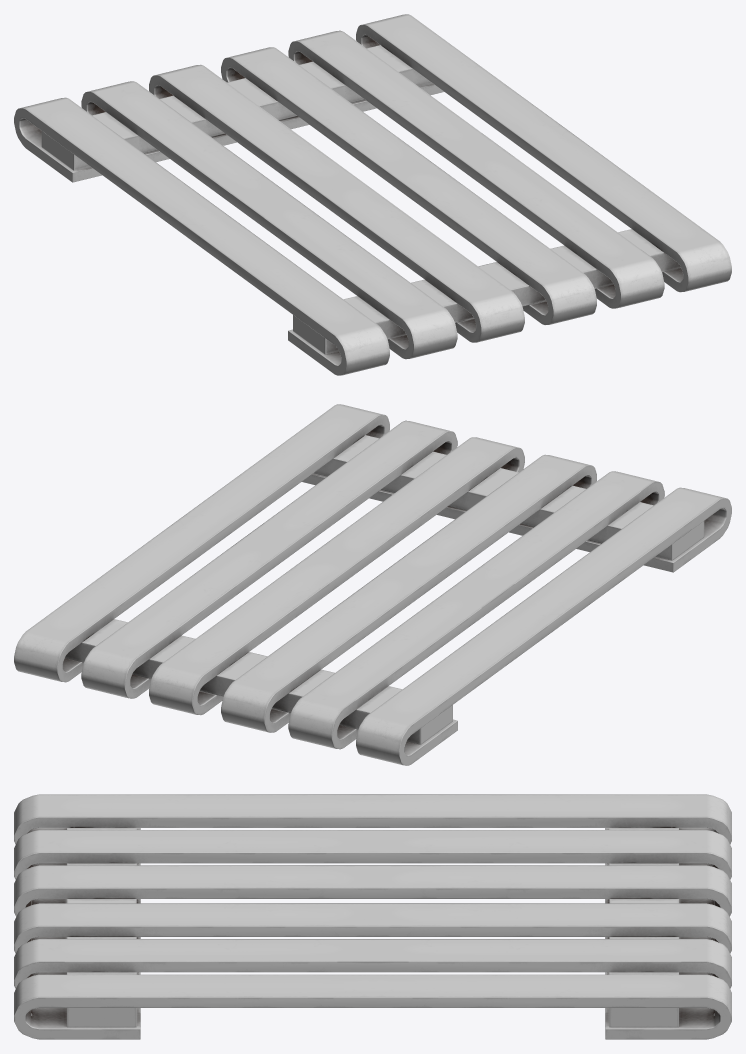
The model's file is ConcreteBagPallet.fbx.
3 renders of one model, top to bottom at view 1: azimuth 30°, elevation 25°; view 2: azimuth 150°, elevation 25°; view 3: azimuth 270°, elevation 25°, orthographic. The views are drawn at different scales.
Parts seen in each view (by area): view 1: ConcreteBagPallet; view 2: ConcreteBagPallet; view 3: ConcreteBagPallet.
Part boxes in pixels (bbox=[...]): ConcreteBagPallet: bbox=[14, 14, 731, 375]; ConcreteBagPallet: bbox=[14, 404, 731, 765]; ConcreteBagPallet: bbox=[14, 794, 731, 1039].
Size of the model in its own units: 124 by 12 by 185.
Materials: 1 (1 with a texture image).
